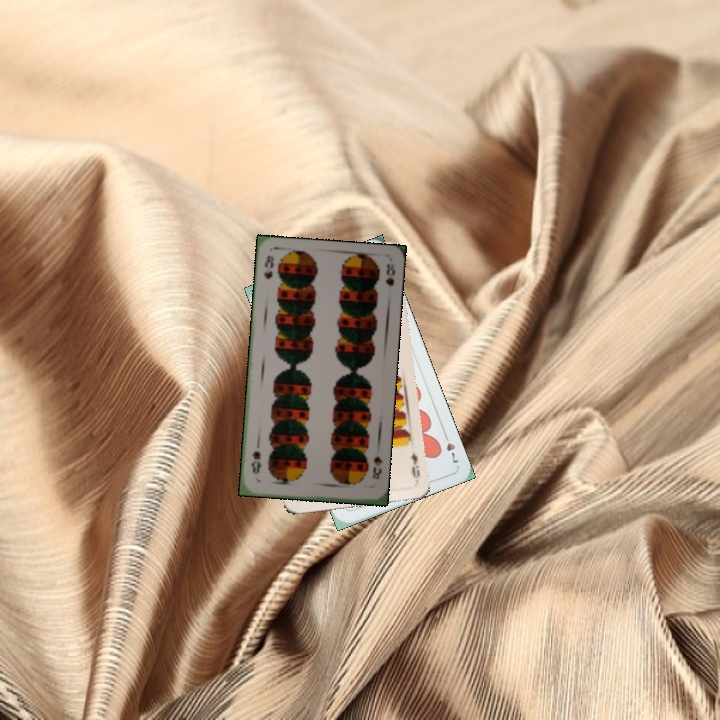E9: (406, 448, 422, 483)
H7: (440, 428, 461, 467)
S8: (368, 452, 385, 482), (260, 252, 276, 281)
